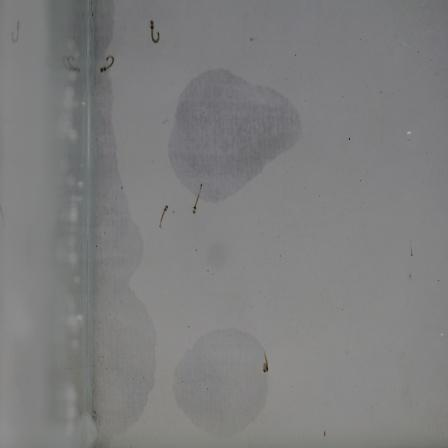Jentik-Nyamuk: (94, 53, 119, 77), (189, 181, 205, 218), (155, 202, 173, 232), (146, 17, 163, 47), (258, 348, 273, 375)
